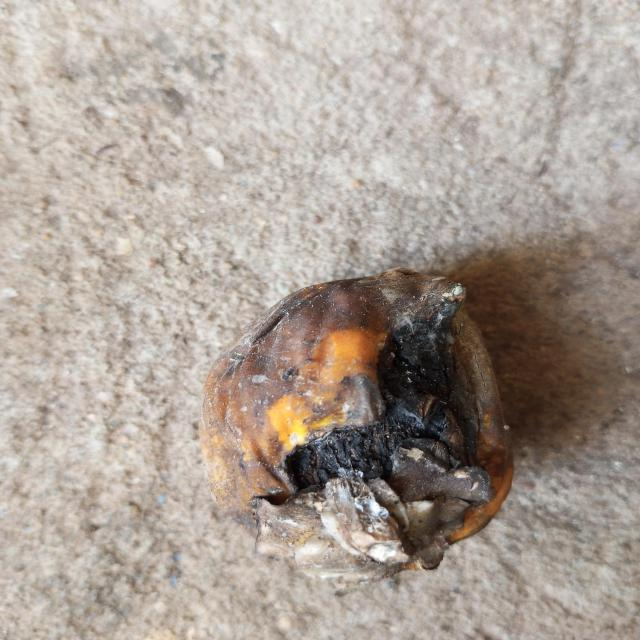damaged: (200, 268, 514, 583)
